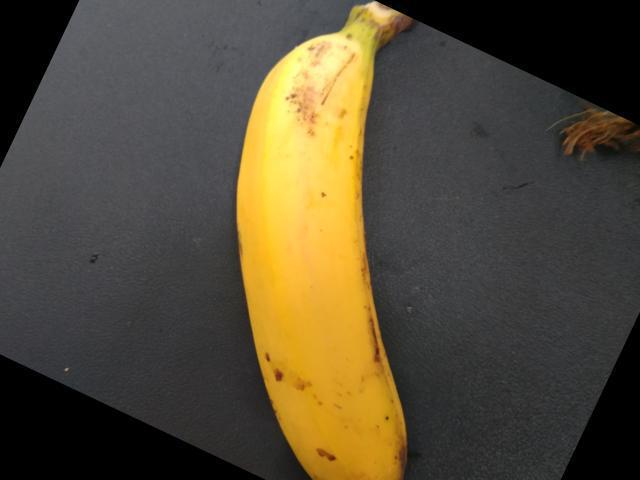ripe: (234, 29, 482, 479)
